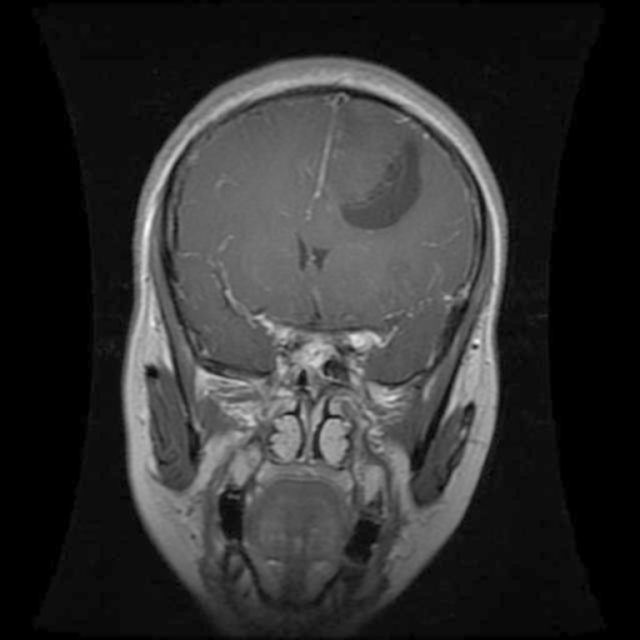pituitary tumor: (262, 313, 368, 362)
